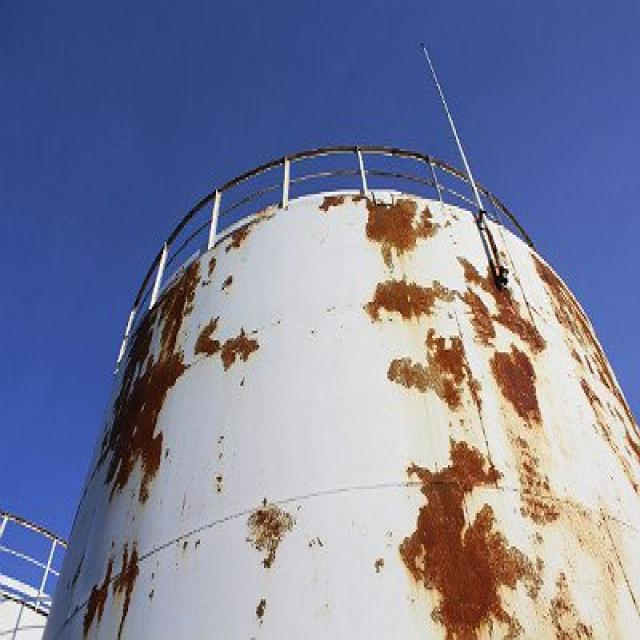corrosion: (402, 436, 538, 640), (531, 250, 640, 480), (96, 267, 200, 501), (461, 262, 552, 430), (317, 185, 443, 262), (383, 328, 473, 409), (78, 542, 141, 640), (513, 424, 562, 532), (362, 274, 459, 320), (190, 316, 261, 370), (546, 561, 592, 640), (247, 497, 292, 570), (218, 214, 270, 248)
